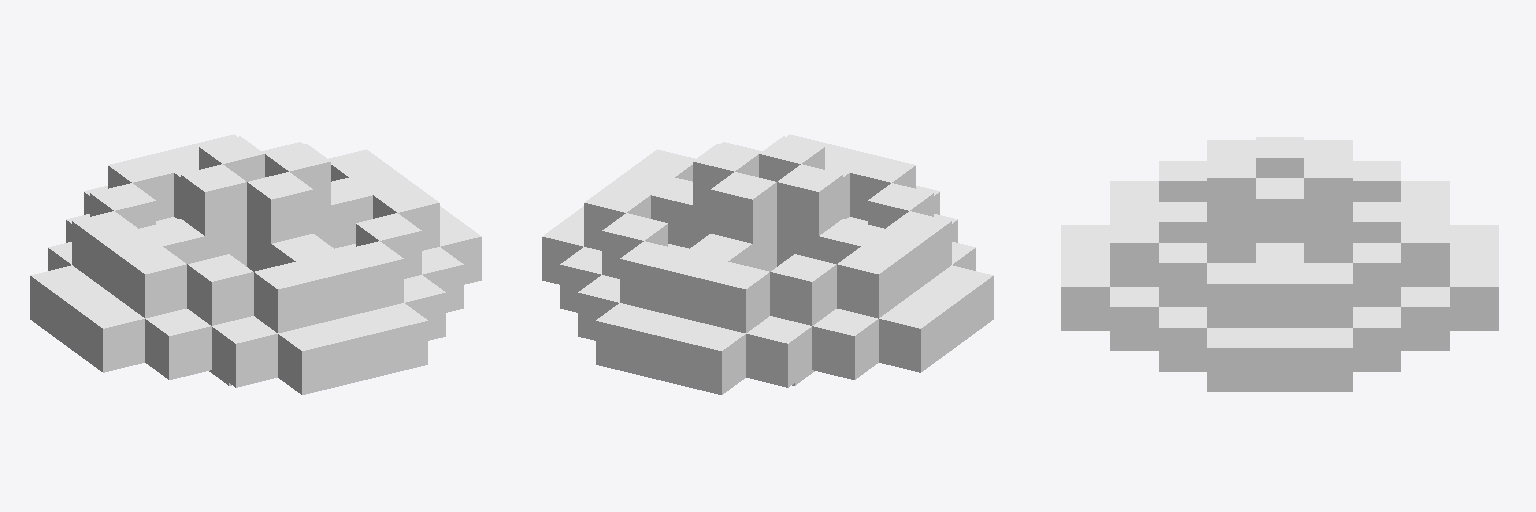
File: CactusFlower.obj
3 renders of one model, left to right at view 1: azimuth 30°, elevation 25°; view 2: azimuth 150°, elevation 25°; view 3: azimuth 270°, elevation 25°, orthographic.
Parts seen in each view (by area): view 1: object 1; view 2: object 1; view 3: object 1.
Boxes of the visible parts, x1=… form: object 1: x1=30, y1=134, x2=481, y2=394; object 1: x1=542, y1=134, x2=993, y2=394; object 1: x1=1061, y1=137, x2=1498, y2=391.
Size of the model in its own units: 0.9 by 0.4 by 0.9.